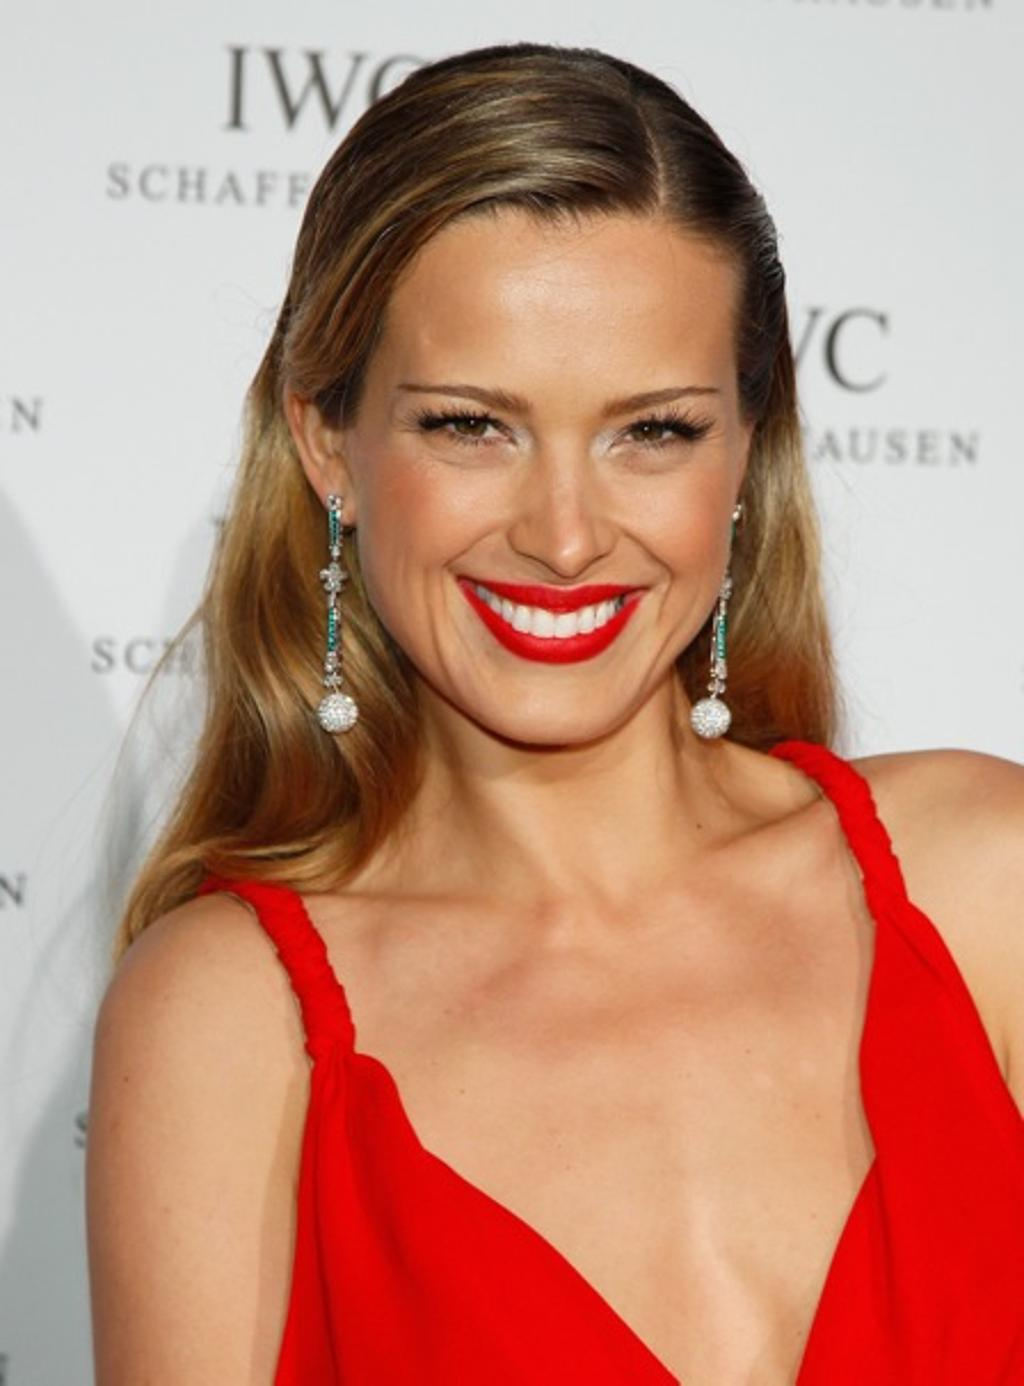face: (357, 203, 741, 743)
